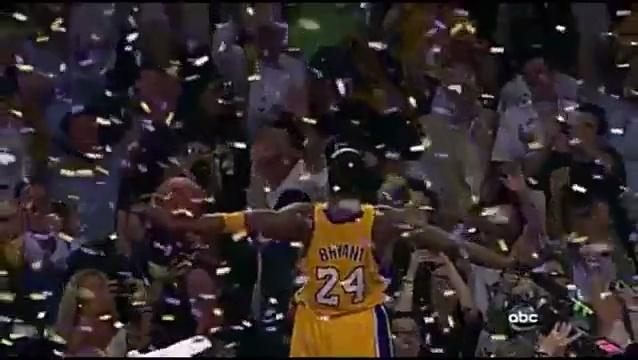Ball: (154, 172, 207, 226)
Person: (145, 134, 539, 360)
